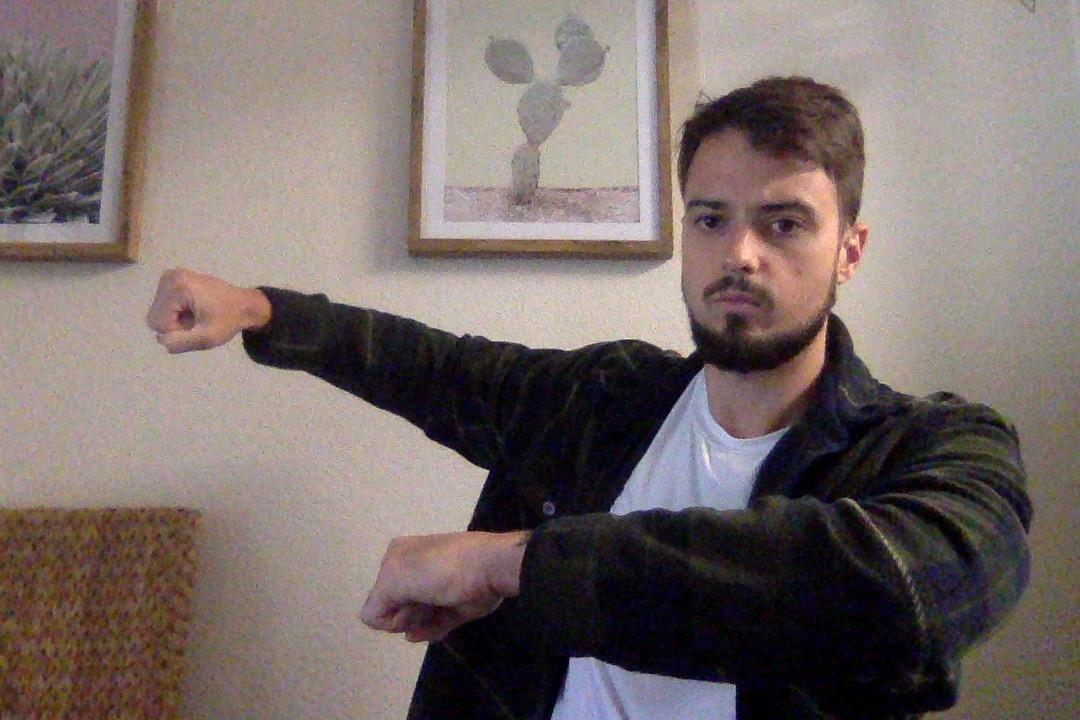Left-Fist: (352, 518, 535, 647), (150, 255, 277, 366)
